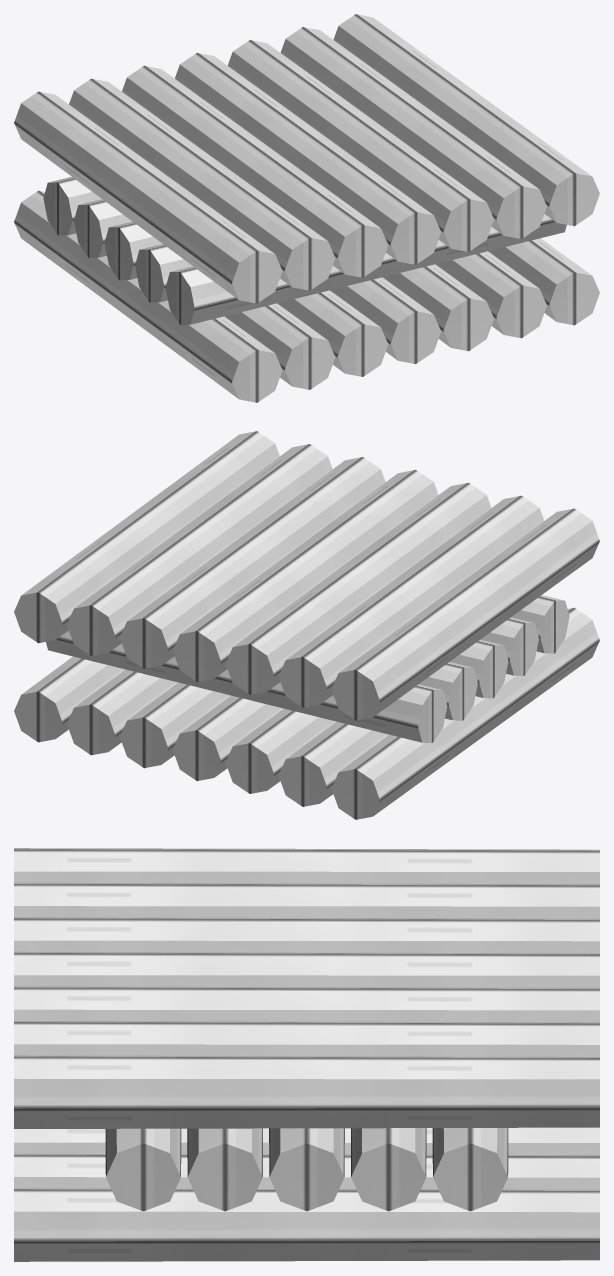
Rendered from ritual_pyre.obj.
The picture shows the model from 3 angles, top to bottom: view 1: azimuth 30°, elevation 25°; view 2: azimuth 150°, elevation 25°; view 3: azimuth 270°, elevation 25°; orthographic projection. The views are drawn at different scales.
Parts seen in each view (by area): view 1: ritual_pyre; view 2: ritual_pyre; view 3: ritual_pyre.
Part boxes in pixels (left/top/right/bottom): ritual_pyre: left=14, top=14, right=599, bottom=402; ritual_pyre: left=14, top=431, right=599, bottom=819; ritual_pyre: left=14, top=848, right=599, bottom=1261.
Size of the model in its own units: 1.7 by 0.66 by 1.72.
